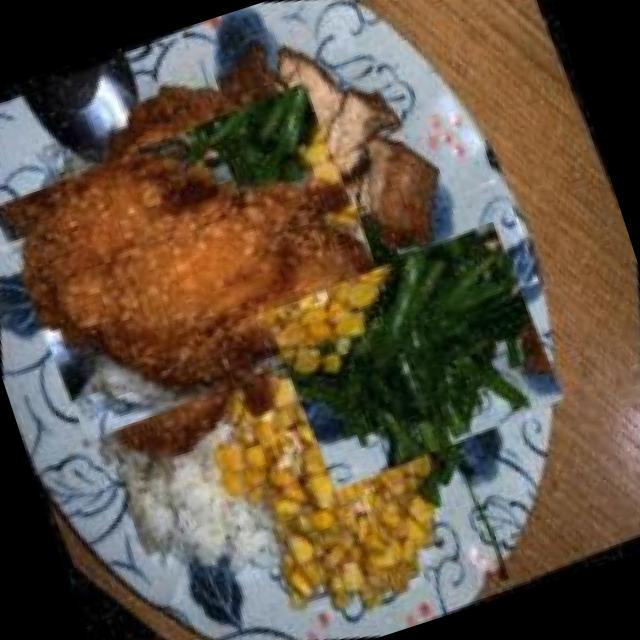fried_chicken: (0, 0, 475, 541)
rice: (82, 397, 321, 640)
water_spinach: (205, 146, 627, 568)
